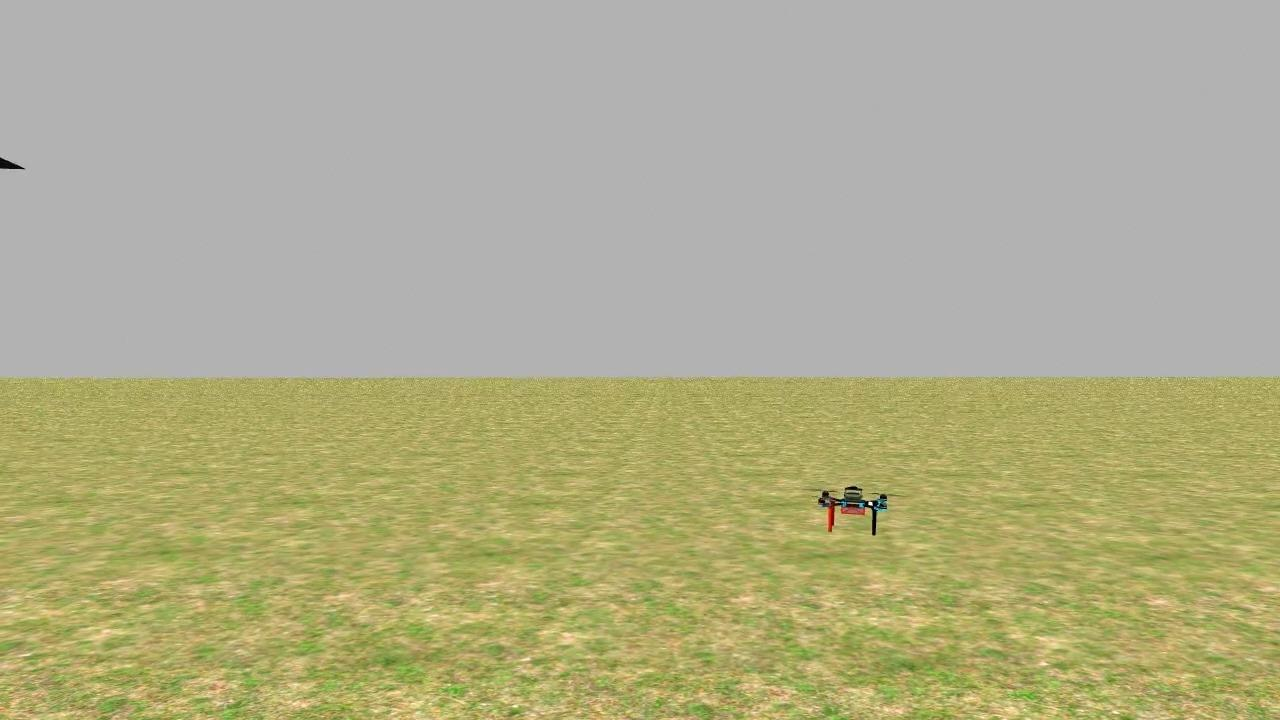UAV: (808, 476, 899, 544)
